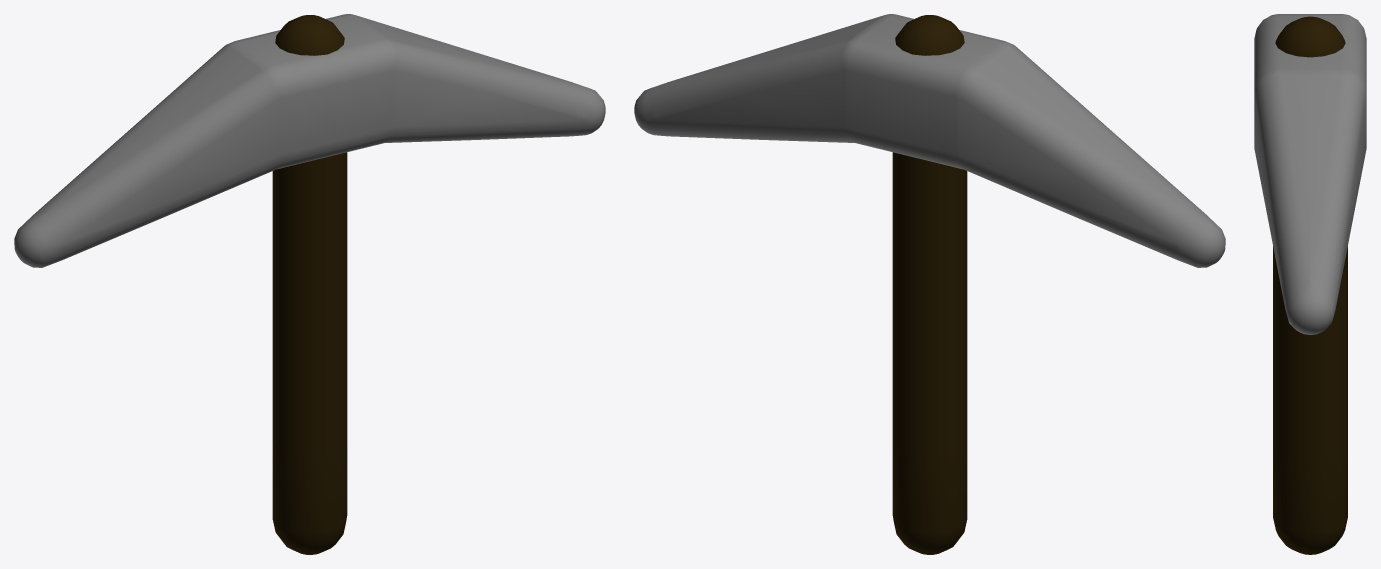
The model's file is LastLuna_Tool_Pickaxe.fbx.
3 renders of one model, left to right at view 1: azimuth 30°, elevation 25°; view 2: azimuth 150°, elevation 25°; view 3: azimuth 270°, elevation 25°, orthographic.
Visible parts, largest first — view 1: Tool_Pickaxe001, Handle001; view 2: Tool_Pickaxe001, Handle001; view 3: Tool_Pickaxe001, Handle001.
Part boxes in pixels (x1,y1,x2,y2): Tool_Pickaxe001: [14, 14, 605, 267]; Handle001: [272, 15, 347, 554]; Tool_Pickaxe001: [634, 14, 1225, 267]; Handle001: [892, 15, 967, 554]; Tool_Pickaxe001: [1254, 14, 1366, 334]; Handle001: [1273, 16, 1347, 554].
Bounding box in the file's own units: 25.31 × 22.03 × 4.22.
